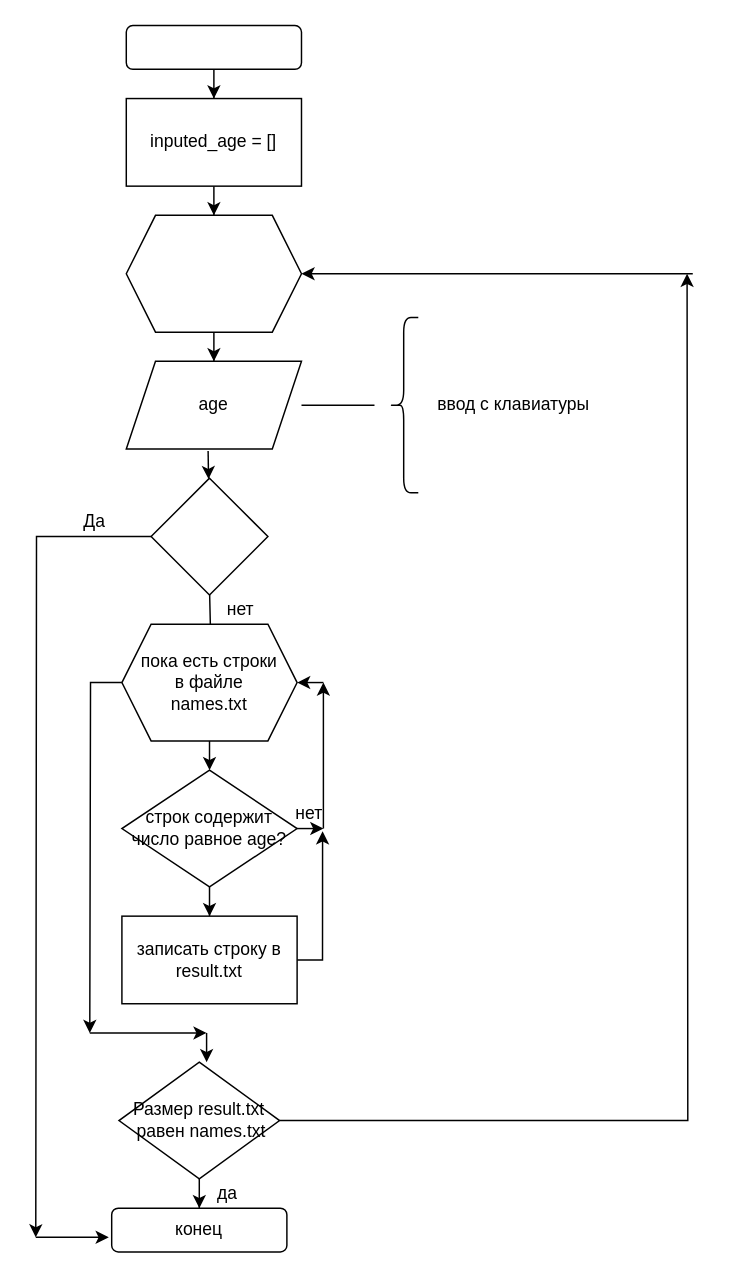
The diagram is 730 pixels wide and 1278 high, and some of its shapes have lost their labels. The shapes that lost their labels are listed below. From the top down, each one's centre as x and y in pixels, then its label:
At point 213,46: "начало".
At point 213,273: "true".
At point 209,536: "age == -1".
